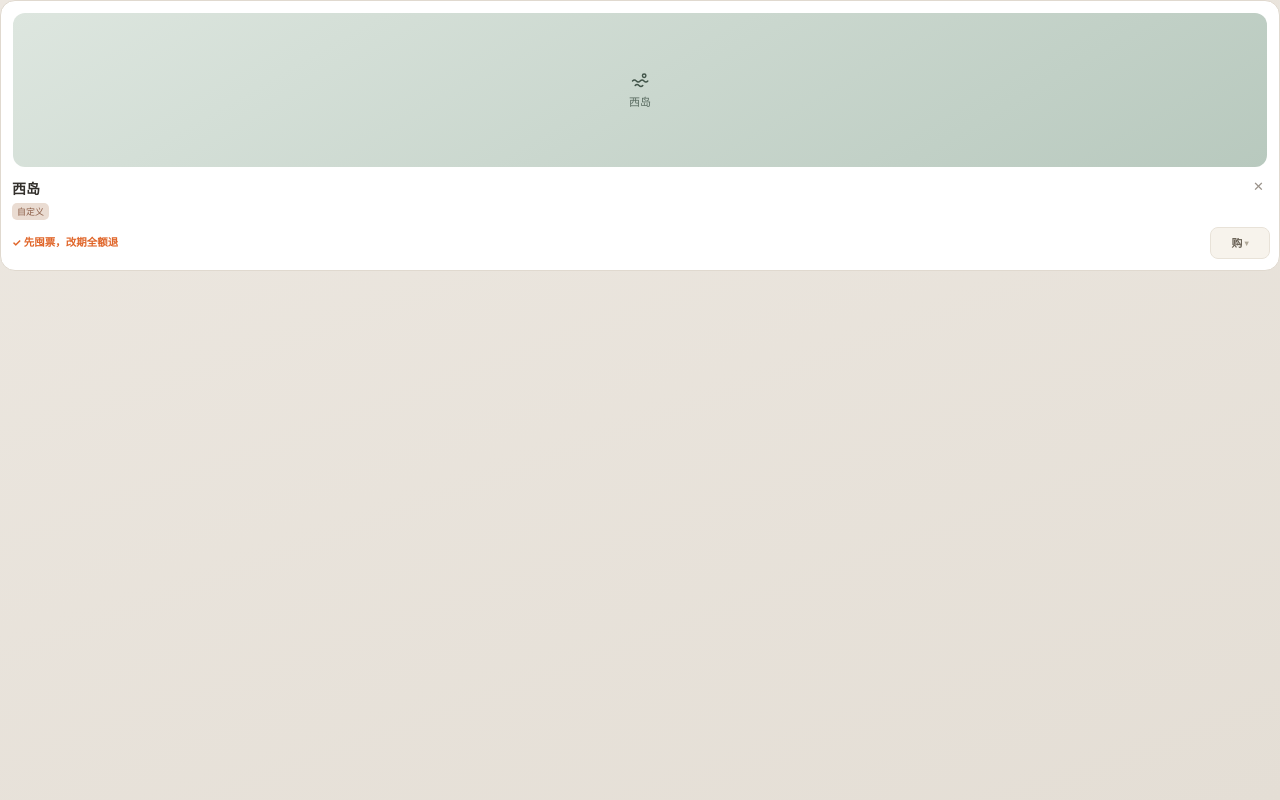
VisitCard 大景点购票入口（任务 127） › 购票状态菜单选择「已购」：调用 onPurchaseSelect("bought")，与普通卡同一 operation
Later steps or results of the test are not shown.
Click the button titled "点击选择购票状态": [1240, 243] box [1210, 227, 1270, 259]
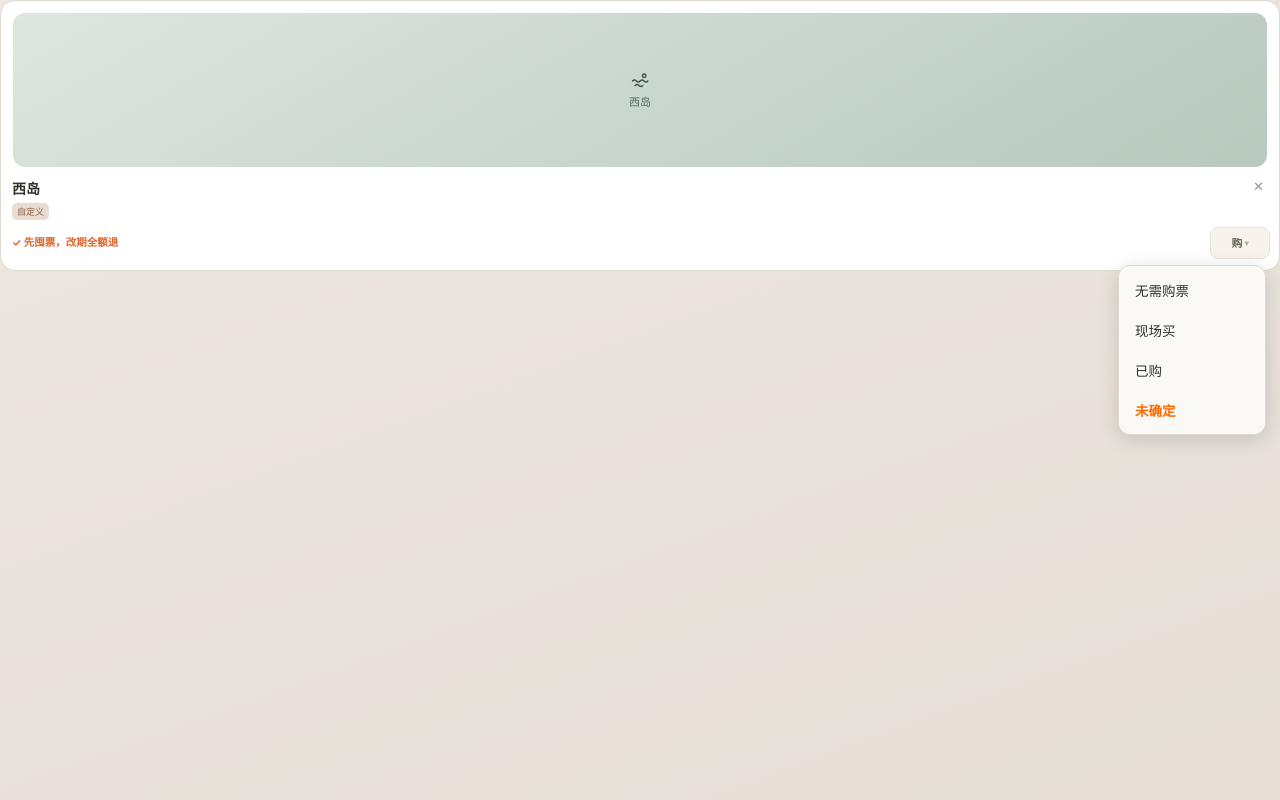
Check: the menu named "选择购票状态" is shown, box [1118, 265, 1266, 435]
